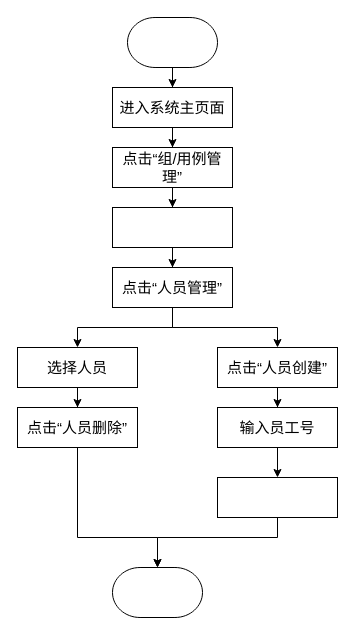
Image size: 355x635. Some labels were removed from this diagram. The shapes that lost their labels are listed below. From the top down, each one's centre as x and y in pixels, then its label:
At point 172,42: "开始".
At point 172,227: "选择组/用例".
At point 277,497: "确认添加".
At point 157,592: "结束".
